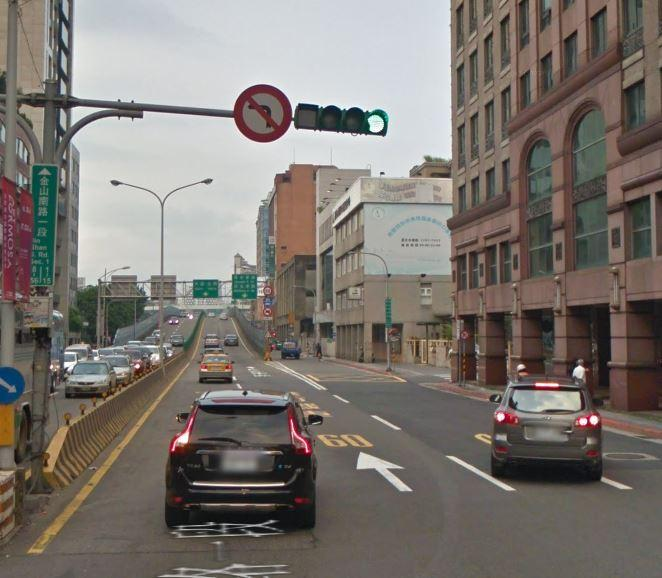car: (160, 371, 324, 531), (481, 370, 610, 489)
green_traffic_light: (294, 97, 389, 139)
